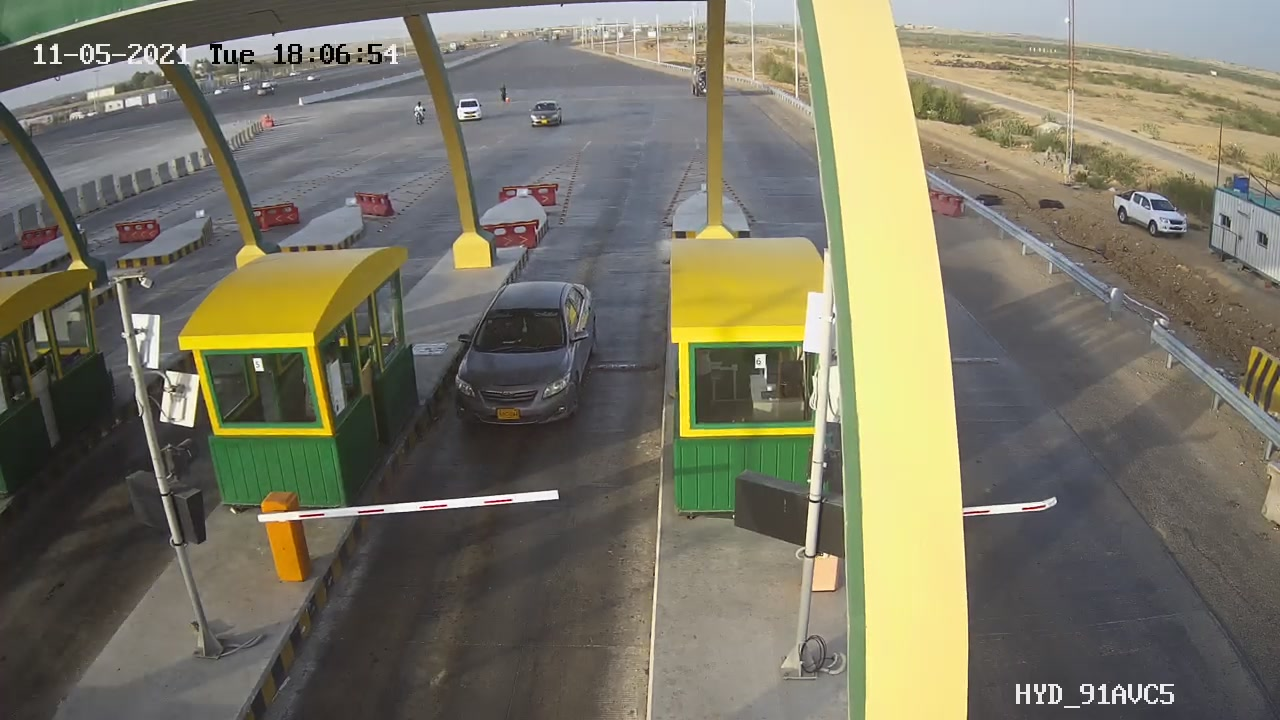F1: (447, 269, 609, 442)
